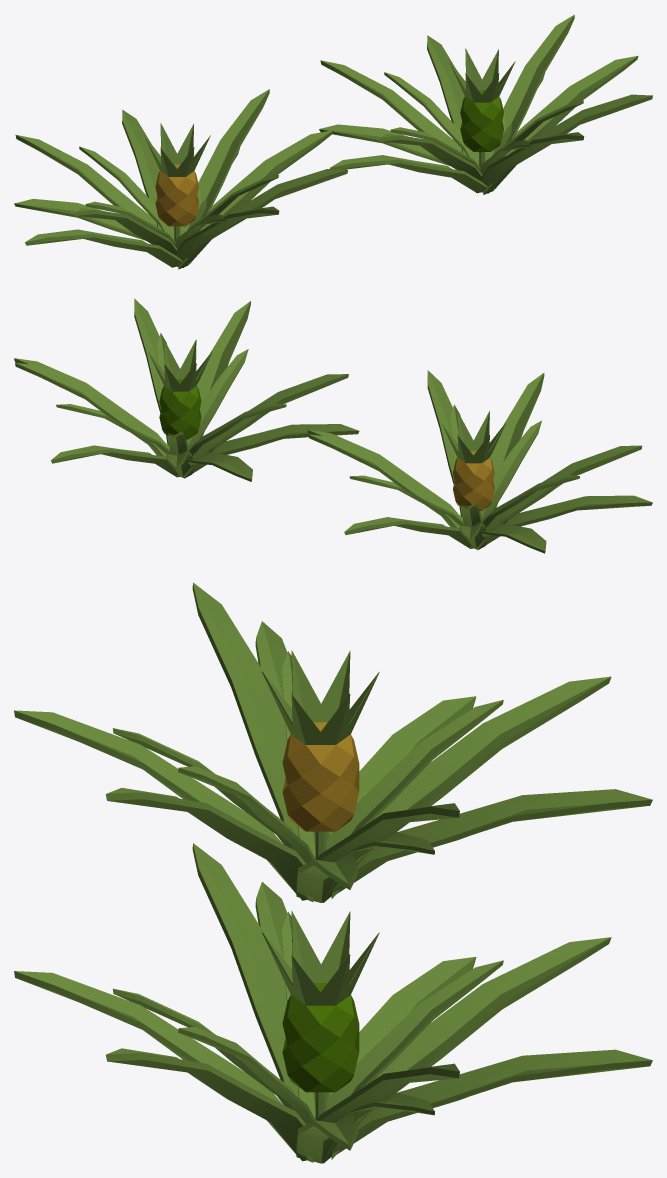
The model's file is Pineapple.fbx.
3 renders of one model, top to bottom at view 1: azimuth 30°, elevation 25°; view 2: azimuth 150°, elevation 25°; view 3: azimuth 270°, elevation 25°, orthographic. The views are drawn at different scales.
Parts seen in each view (by area): view 1: Plane.002, Plane.004, Plane.016; view 2: Plane.002, Plane.004, Plane.016; view 3: Plane.002, Plane.004, Plane.016.
Boxes of the visible parts, x1=… form: Plane.002: x1=319, y1=14, x2=652, y2=194; Plane.004: x1=14, y1=89, x2=347, y2=269; Plane.016: x1=144, y1=123, x2=210, y2=241; Plane.002: x1=14, y1=298, x2=359, y2=481; Plane.004: x1=307, y1=370, x2=652, y2=553; Plane.016: x1=441, y1=411, x2=505, y2=510; Plane.002: x1=14, y1=843, x2=652, y2=1163; Plane.004: x1=14, y1=582, x2=652, y2=902; Plane.016: x1=262, y1=650, x2=379, y2=859.
Size of the model in its own units: 3.96 by 0.7618 by 1.96.
